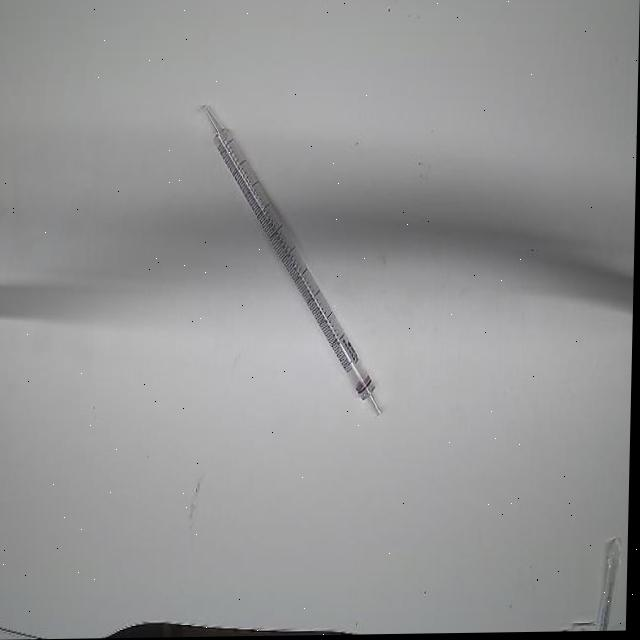Serelogical Pipet 50 mL: (193, 99, 405, 431)
